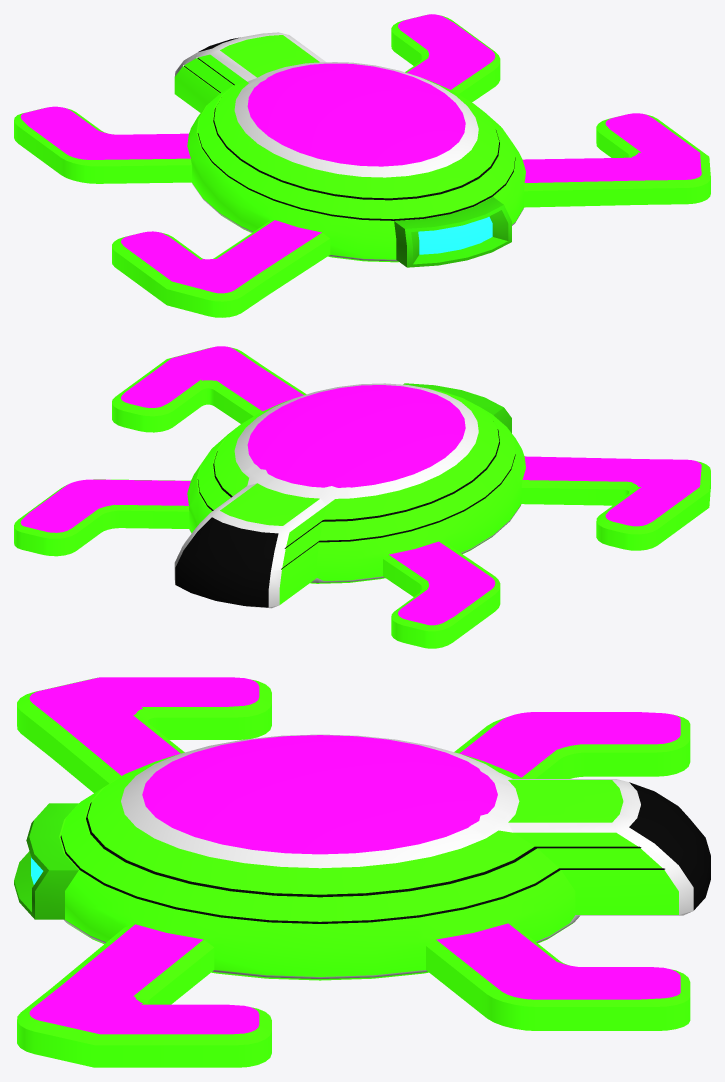
The model's file is AlienShip3.fbx.
The picture shows the model from 3 angles, top to bottom: view 1: azimuth 30°, elevation 25°; view 2: azimuth 150°, elevation 25°; view 3: azimuth 270°, elevation 25°; orthographic projection. The views are drawn at different scales.
Parts seen in each view (by area): view 1: Sphere; view 2: Sphere; view 3: Sphere.
Part boxes in pixels (x1,y1,x2,y2): Sphere: (14,14,710,317); Sphere: (14,346,710,648); Sphere: (14,677,710,1067).
Bounding box in the file's own units: 388 × 59.06 × 312.
